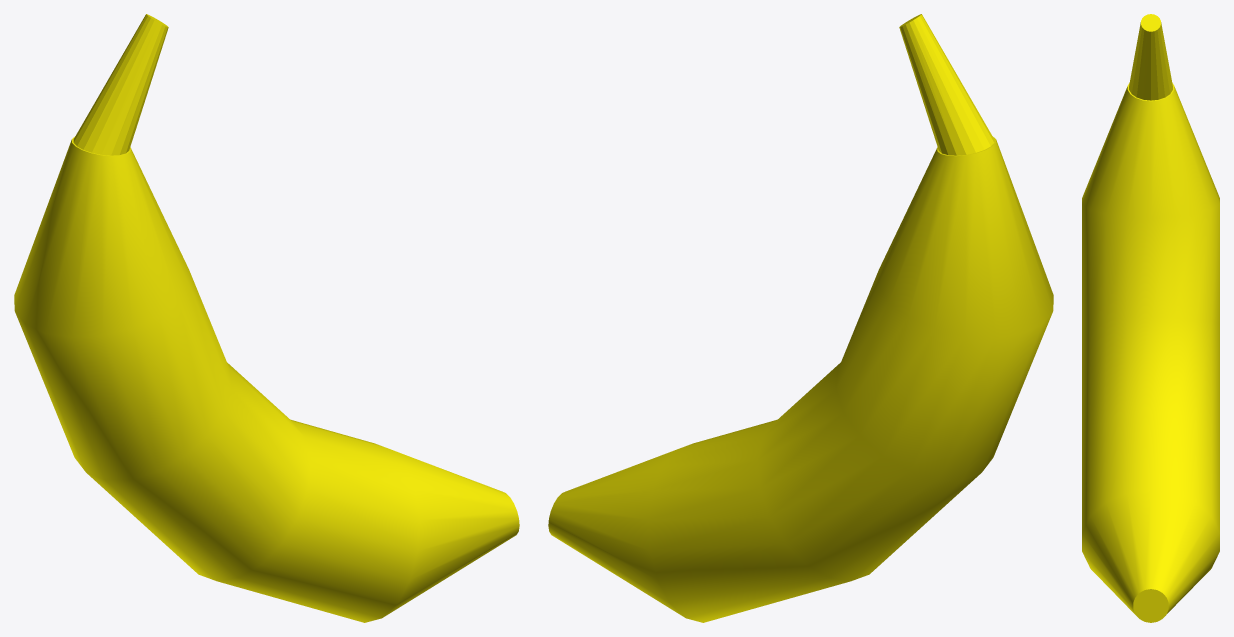
File: banana.fbx
The picture shows the model from 3 angles, left to right: view 1: azimuth 30°, elevation 25°; view 2: azimuth 150°, elevation 25°; view 3: azimuth 270°, elevation 25°; orthographic projection. The views are drawn at different scales.
Visible parts, largest first — view 1: Cylinder001; view 2: Cylinder001; view 3: Cylinder001.
Boxes of the visible parts, x1,y1,x2,y2 form: Cylinder001: (14,14,519,622); Cylinder001: (548,14,1053,622); Cylinder001: (1082,14,1219,622).
Bounding box in the file's own units: 32.62 × 41.82 × 10.34.
